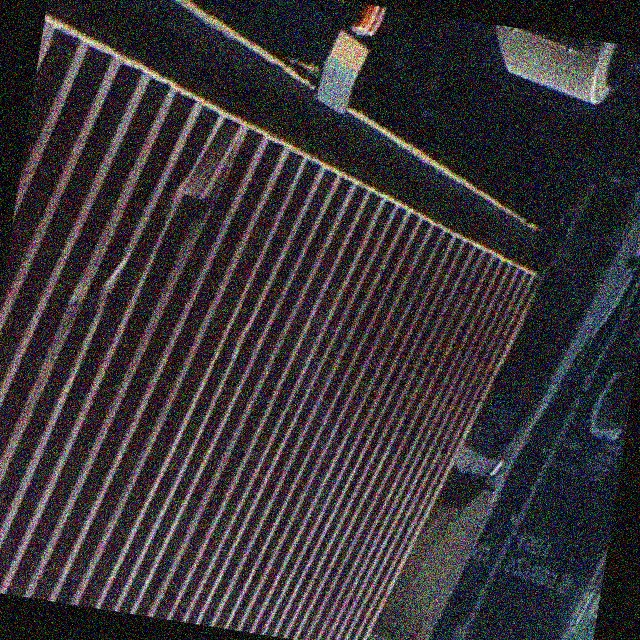Dent: (148, 137, 255, 243)
